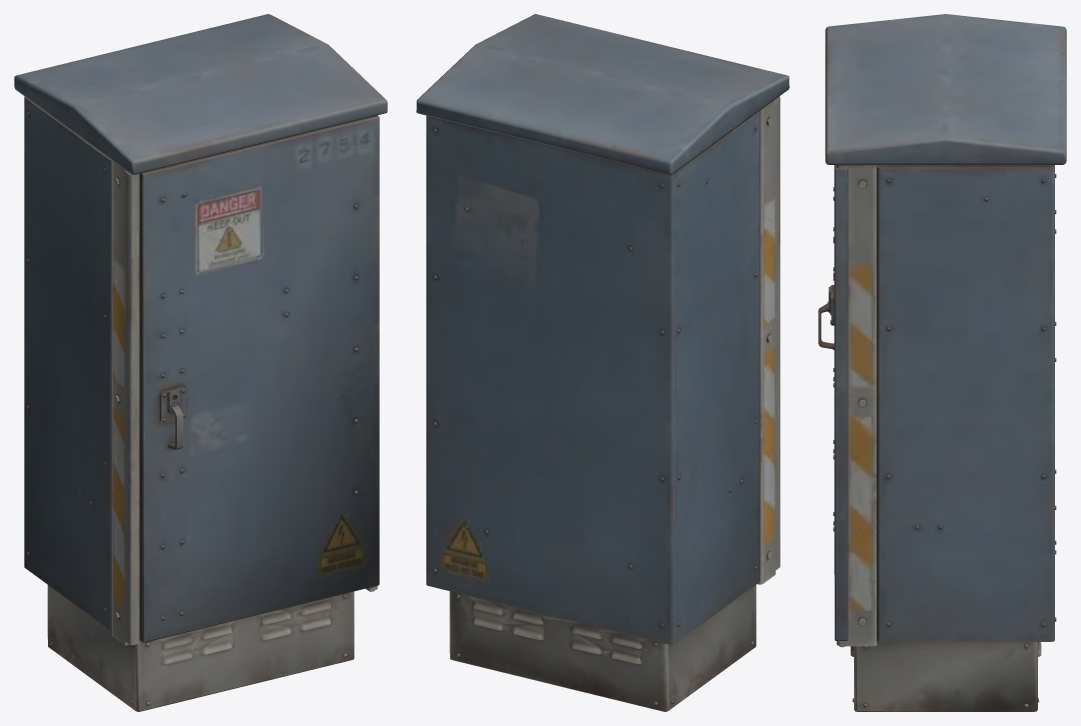
File: utility_box_01.glb
3 views of the same model, side by side, from view 1: azimuth 30°, elevation 25°; view 2: azimuth 150°, elevation 25°; view 3: azimuth 270°, elevation 25° (orthographic).
Parts seen in each view (by area): view 1: utility_box_01_box; view 2: utility_box_01_box; view 3: utility_box_01_box.
Part boxes in pixels (<box>): utility_box_01_box: <box>14,14,387,711</box>; utility_box_01_box: <box>416,14,789,711</box>; utility_box_01_box: <box>818,14,1066,711</box>.
Size of the model in its own units: 0.52 by 1.12 by 0.432.
Materials: 1 (1 with a texture image).
